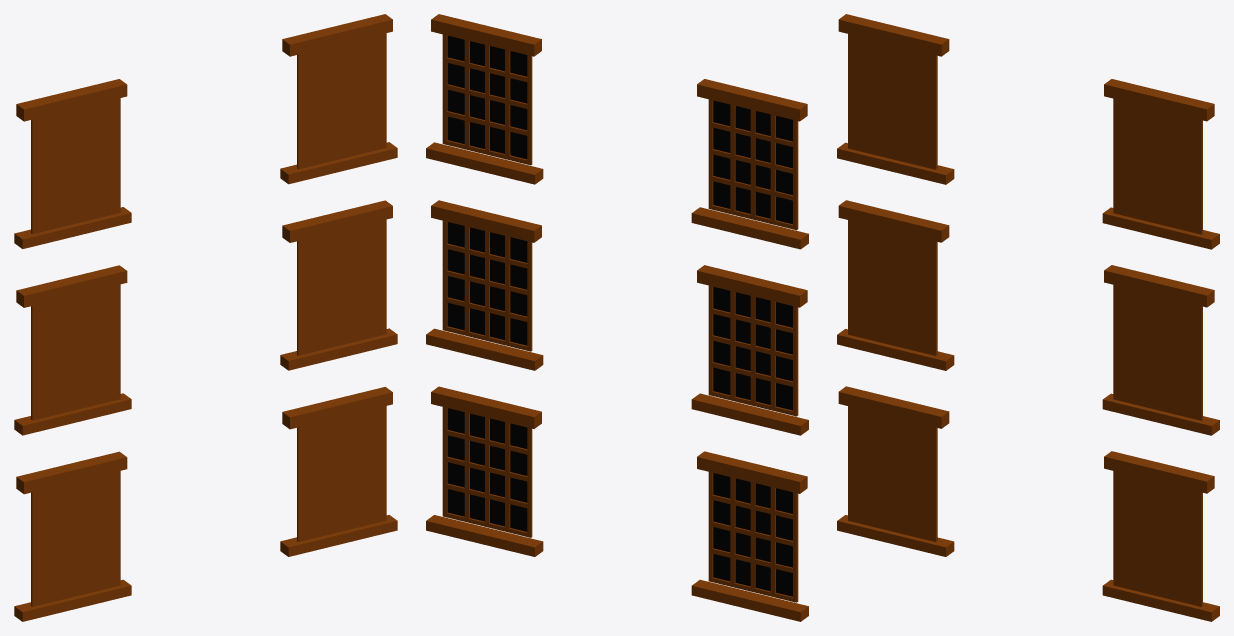
Rendered from modularbatiment_3.fbx.
3 renders of one model, left to right at view 1: azimuth 30°, elevation 25°; view 2: azimuth 150°, elevation 25°; view 3: azimuth 330°, elevation 25°, orthographic.
Visible parts, largest first — view 1: modularbatiment_3; view 2: modularbatiment_3; view 3: modularbatiment_3.
Part boxes in pixels (x1,y1,x2,y2): modularbatiment_3: (14, 14, 397, 621); modularbatiment_3: (426, 14, 808, 621); modularbatiment_3: (837, 14, 1219, 621).
Size of the model in its own units: 2343 by 3057 by 89.21.
